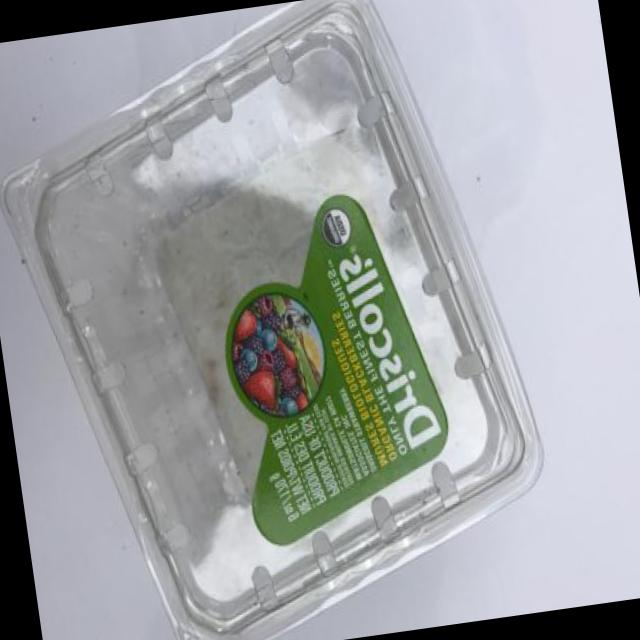Clamshell: (0, 0, 585, 640)
Label: (195, 170, 470, 554)
